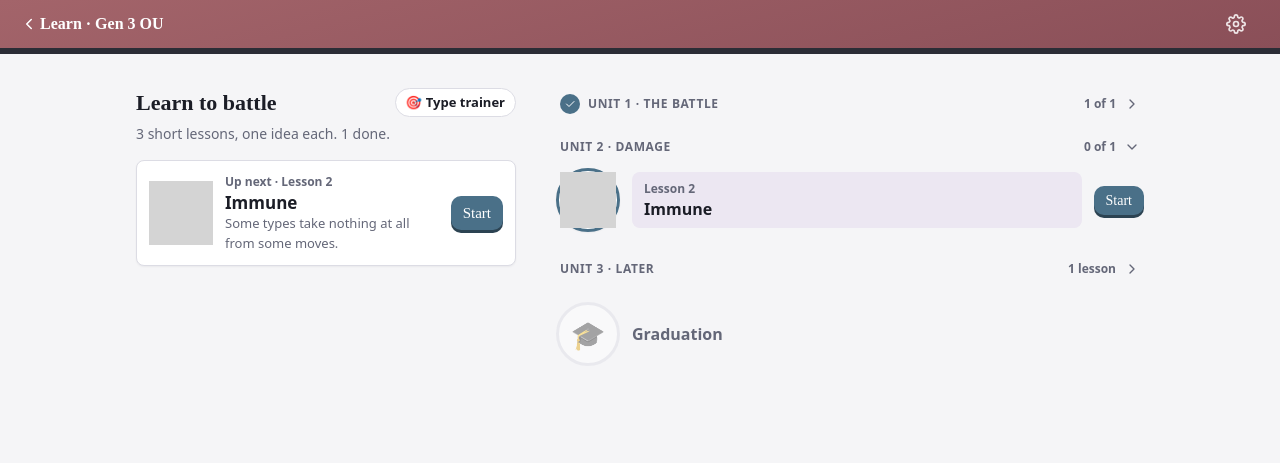
Test case: CourseMap › folds units: finished ones closed with a check, the next lesson’s open, a tap toggles
Expected: the button "Unit 3 · Later 1 lesson" is shown, [556,252,1144,286]
Click the button "Unit 1 · The battle 1 of 1": click(606, 104) [556,86,1144,122]
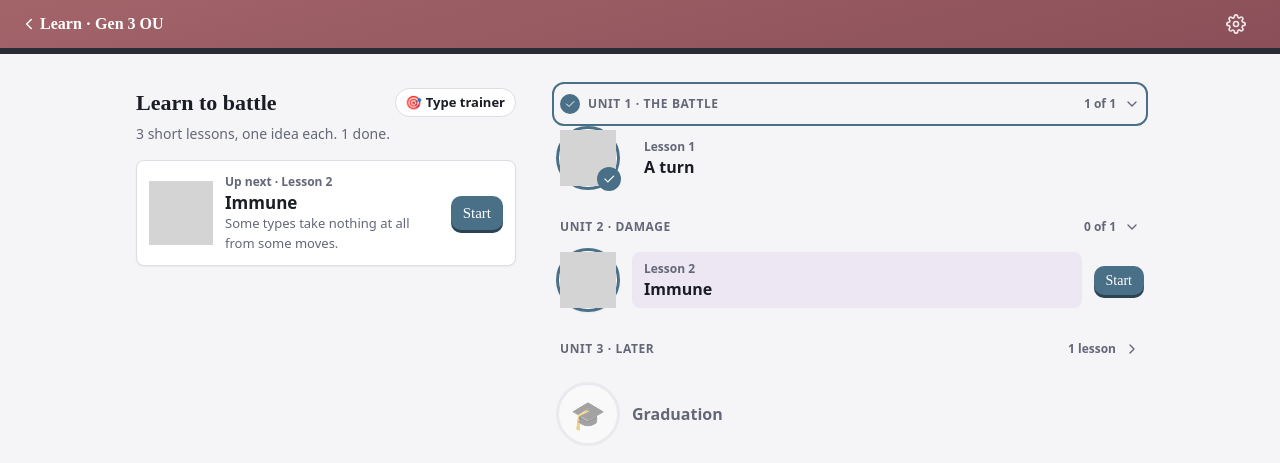
Result: the button with aria-label "Lesson 1: A turn, done" is shown at [556,126,1144,190]
